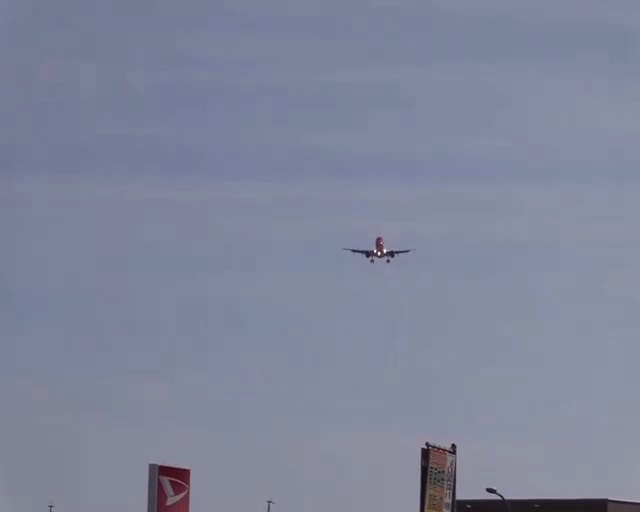AIRPLANE: (342, 236, 413, 263)
